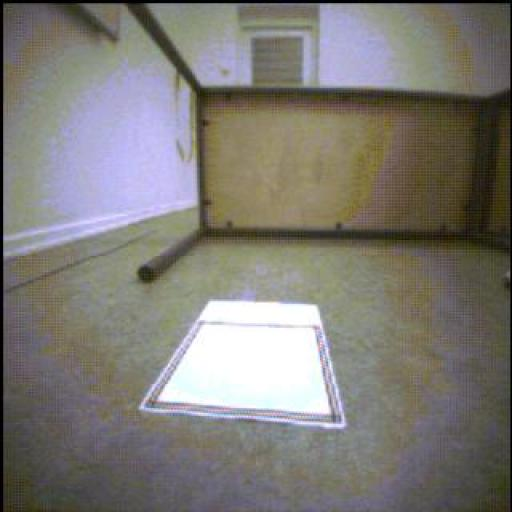Pad: (142, 302, 347, 430)
